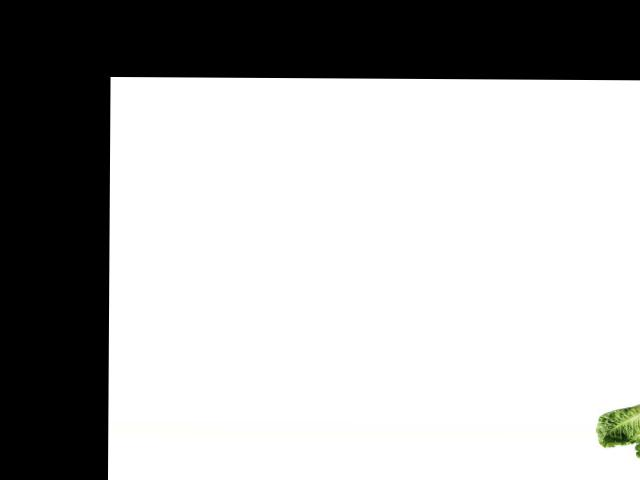lettuce: (634, 405, 640, 466)
